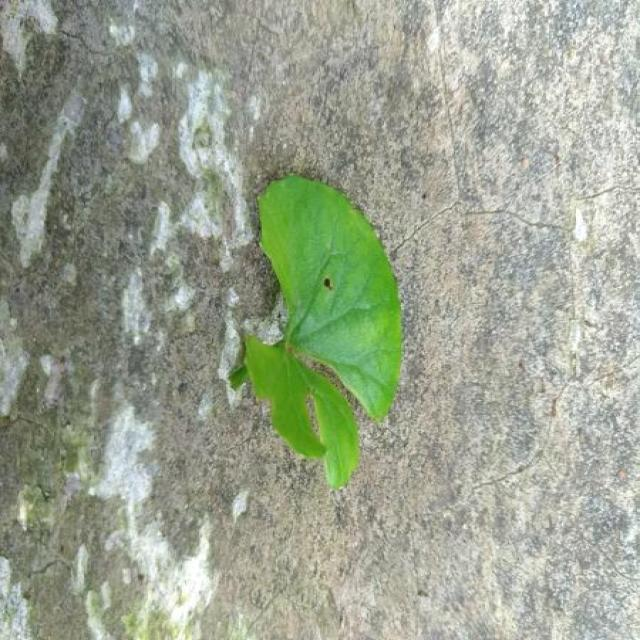defectedbhrami: (230, 175, 398, 488)
